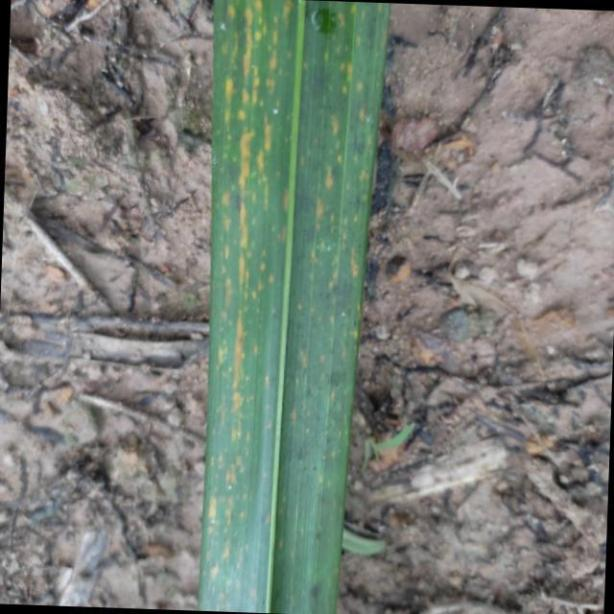Kalium: (210, 0, 393, 614)
